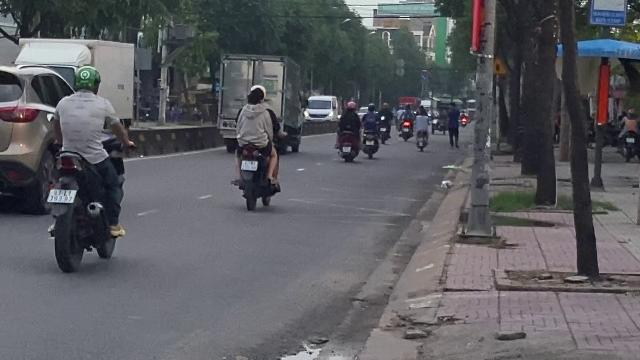helmet: (72, 65, 100, 93)
licenseplate: (47, 188, 75, 202), (241, 160, 257, 170)
motorcyclist: (41, 65, 131, 272), (229, 83, 283, 209)
nohelmet: (246, 86, 266, 106)
